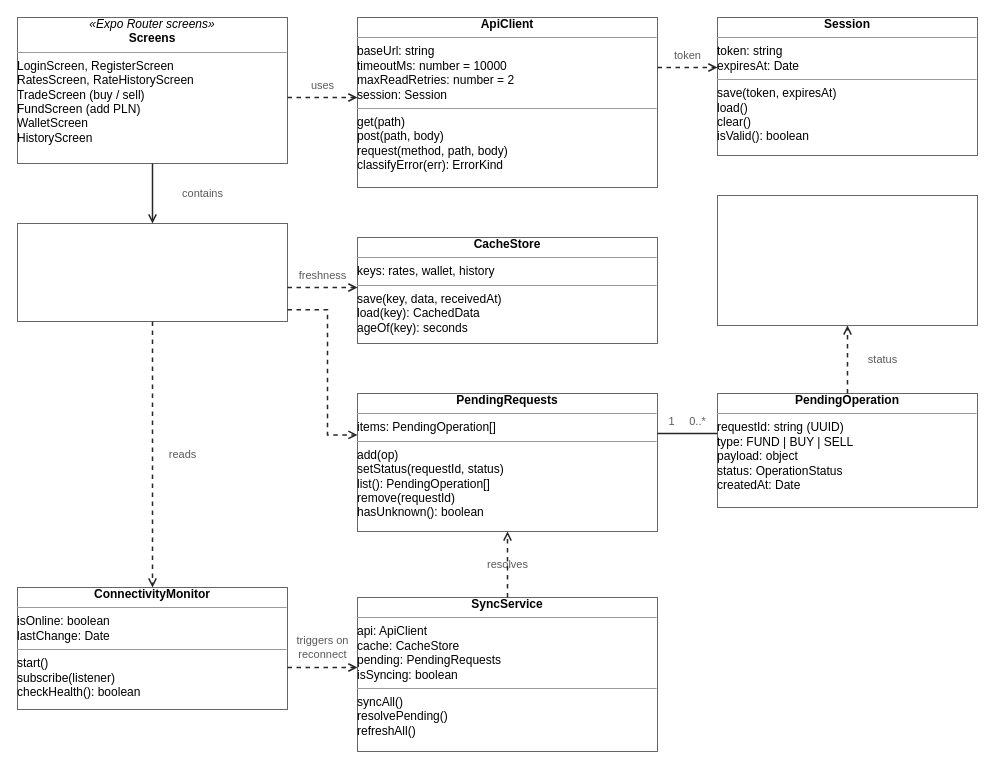
Some shapes in this 995 by 769 pixel diagram are drawn without their labels. Each missing label, with the box of its shape:
«enumeration» OperationStatus SENT CONFIRMED REJECTED UNKNOWN NOT_RECEIVED: (716, 194, 978, 326)
«UI» Components OfflineBanner FreshnessLabel PendingOperationCard: (16, 222, 288, 322)
